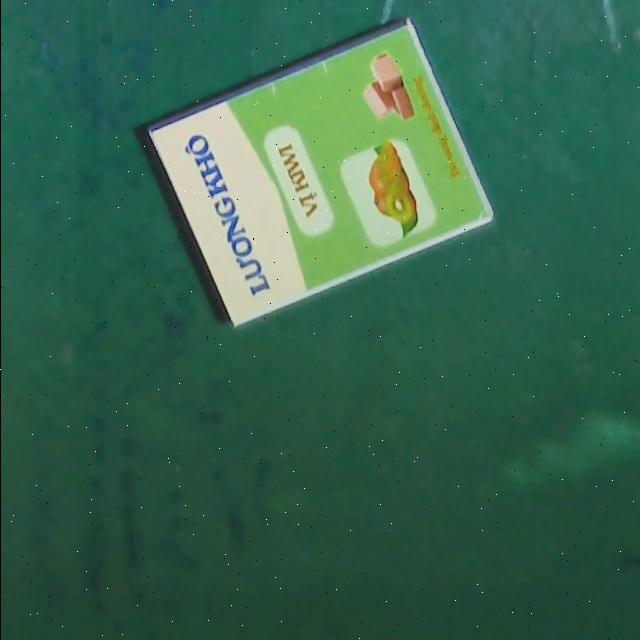kiwi: (144, 15, 495, 332)
